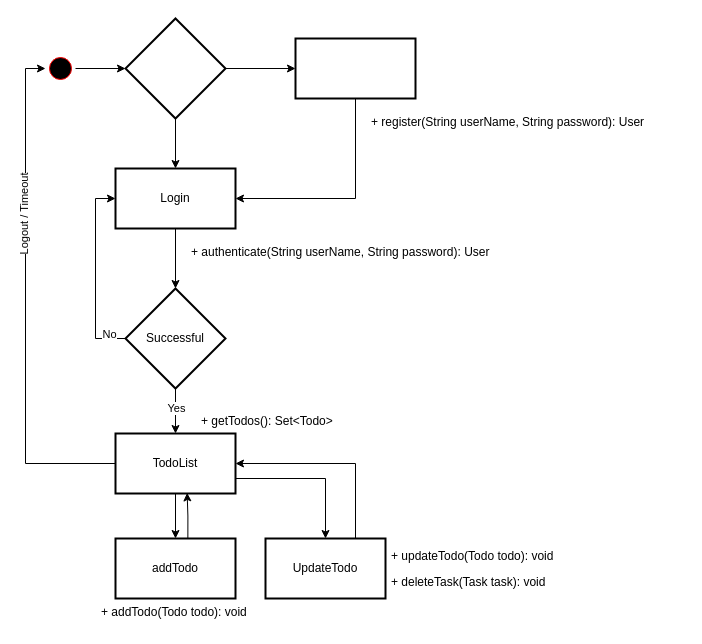
Image size: 702x644. Some labels were removed from this diagram. Each missing label, with the box of its shape:
Landing: (124, 17, 226, 119)
Register: (294, 37, 416, 99)
